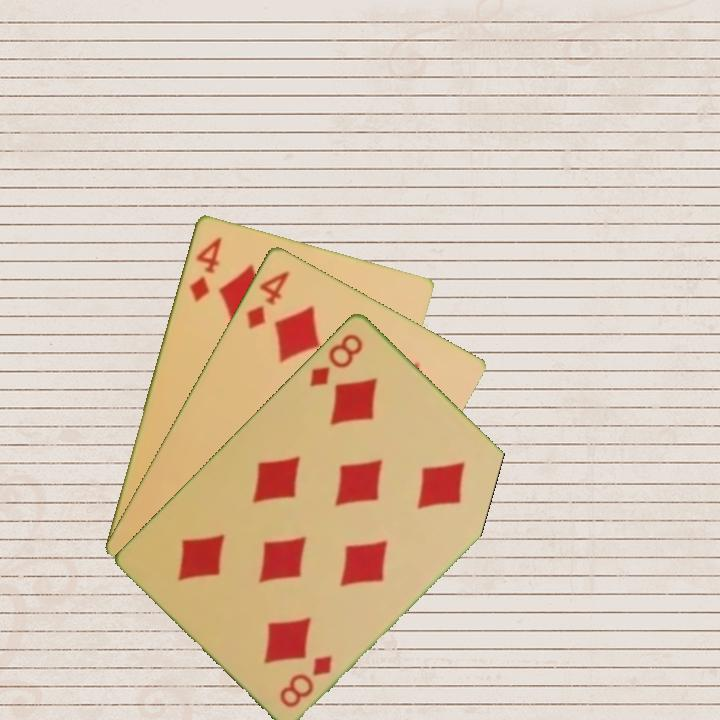4d: (243, 266, 292, 332), (185, 232, 225, 304)
8d: (305, 329, 366, 389), (275, 651, 335, 711)
